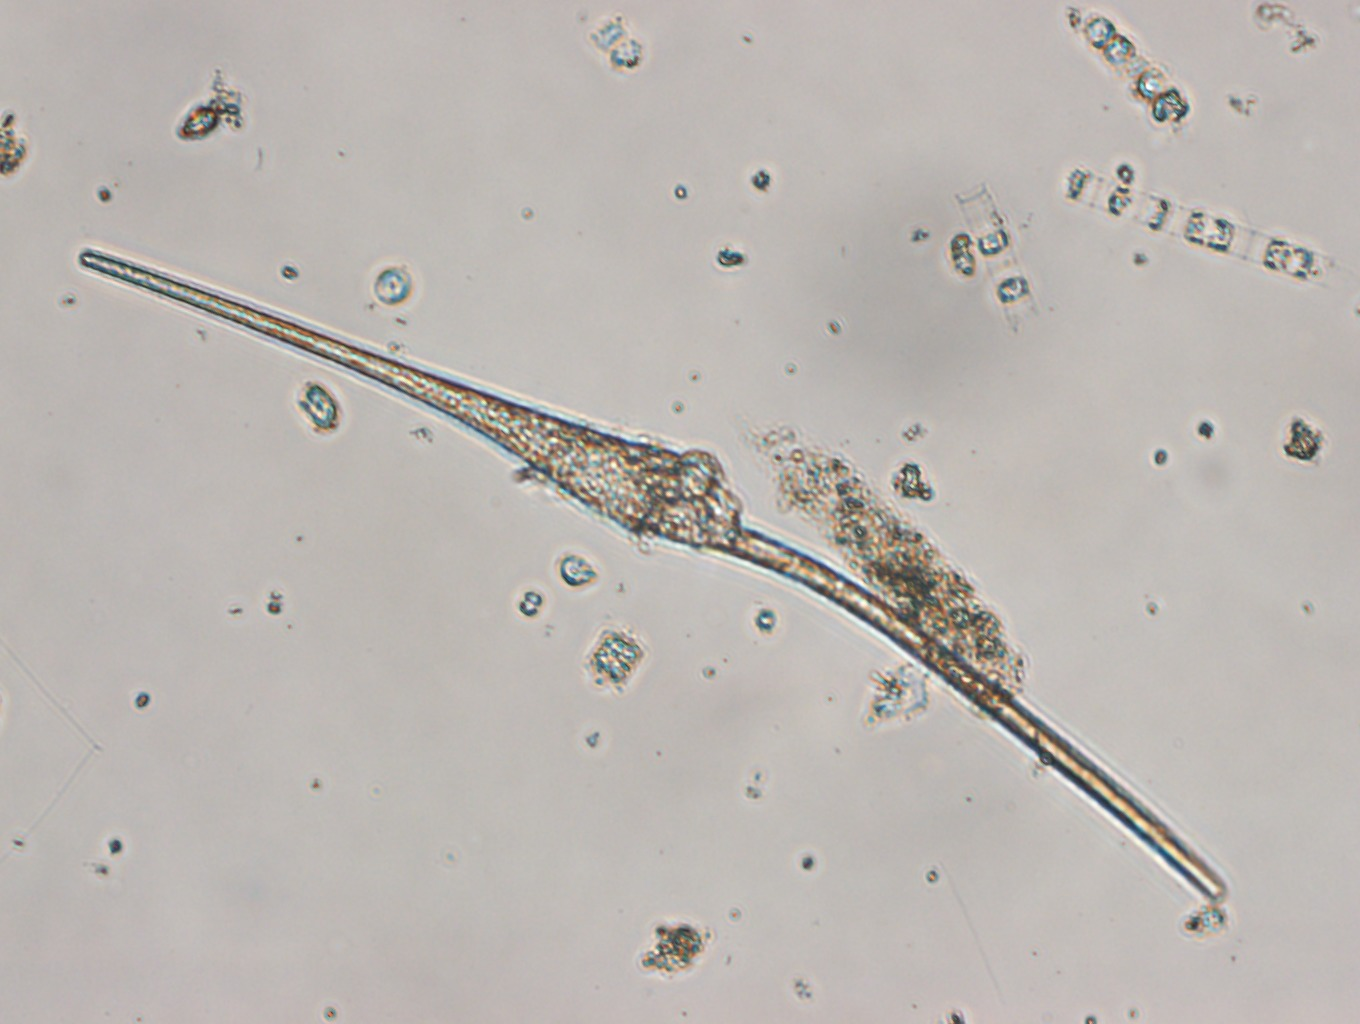ceratium fusus: (67, 245, 1235, 919)
skeletonema: (1064, 159, 1343, 303), (945, 181, 1048, 335)
